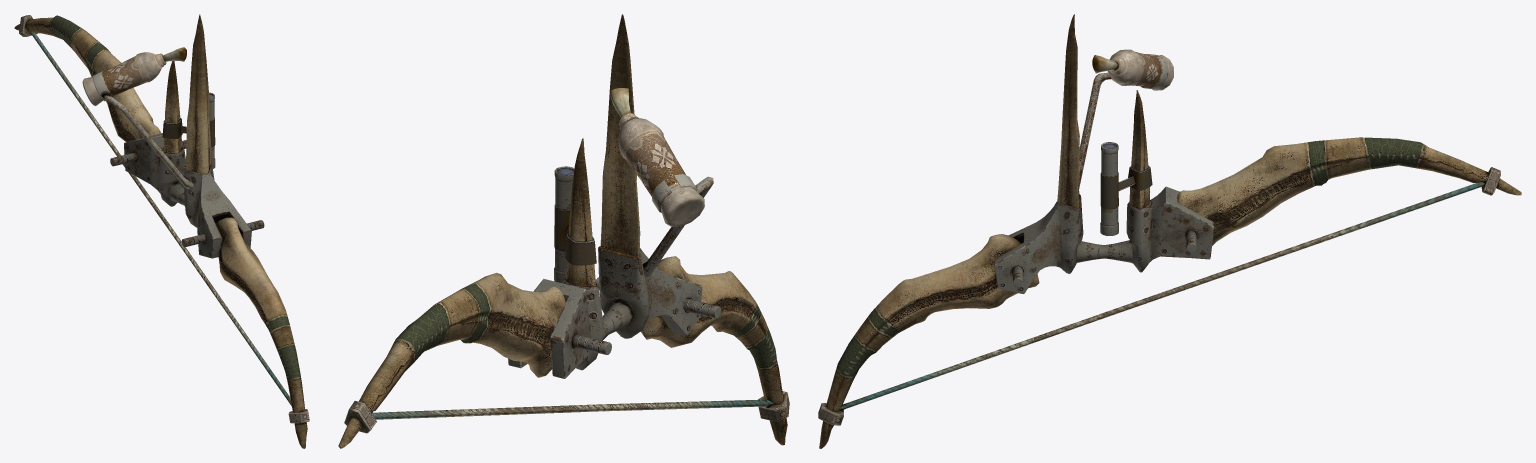
File: bow007.obj
3 renders of one model, left to right at view 1: azimuth 30°, elevation 25°; view 2: azimuth 150°, elevation 25°; view 3: azimuth 270°, elevation 25°, orthographic. The views are drawn at different scales.
Visible parts, largest first — view 1: bow007_000_LOD_1, bow007_001_LOD_1; view 2: bow007_000_LOD_1, bow007_001_LOD_1; view 3: bow007_000_LOD_1, bow007_001_LOD_1.
Part boxes in pixels (x1=…): bow007_000_LOD_1: x1=14, y1=14, x2=309, y2=448; bow007_001_LOD_1: x1=28, y1=30, x2=291, y2=406; bow007_000_LOD_1: x1=338, y1=14, x2=789, y2=448; bow007_001_LOD_1: x1=372, y1=399, x2=773, y2=419; bow007_000_LOD_1: x1=818, y1=14, x2=1521, y2=448; bow007_001_LOD_1: x1=840, y1=182, x2=1484, y2=410.
Bounding box in the file's own units: 53.78 × 149 × 219.
